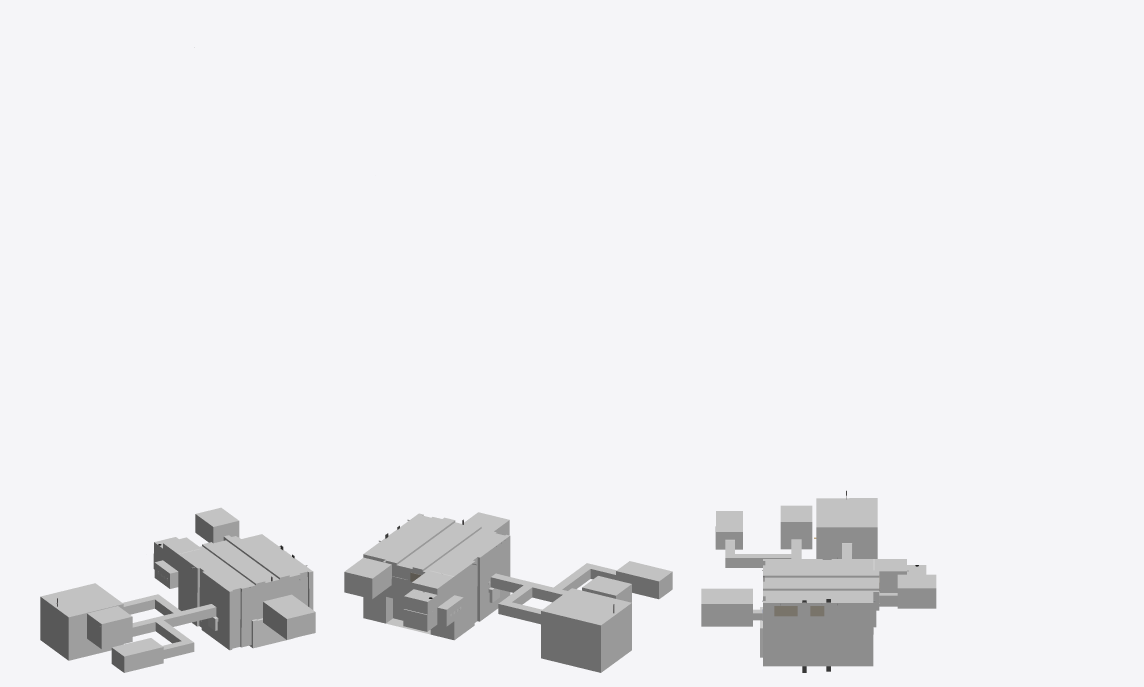
The picture shows the model from 3 angles, left to right: view 1: azimuth 30°, elevation 25°; view 2: azimuth 150°, elevation 25°; view 3: azimuth 270°, elevation 25°; orthographic projection. The views are drawn at different scales.
Parts seen in each view (by area): view 1: 立方體, 立方體.006; view 2: 立方體; view 3: 立方體.
Boxes of the visible parts, <box> form: 立方體: <box>40,507,315,672</box>; 立方體.006: <box>249,618,290,648</box>; 立方體: <box>344,512,672,672</box>; 立方體: <box>701,498,936,666</box>.
Size of the model in its own units: 2437 by 6013 by 3763.
